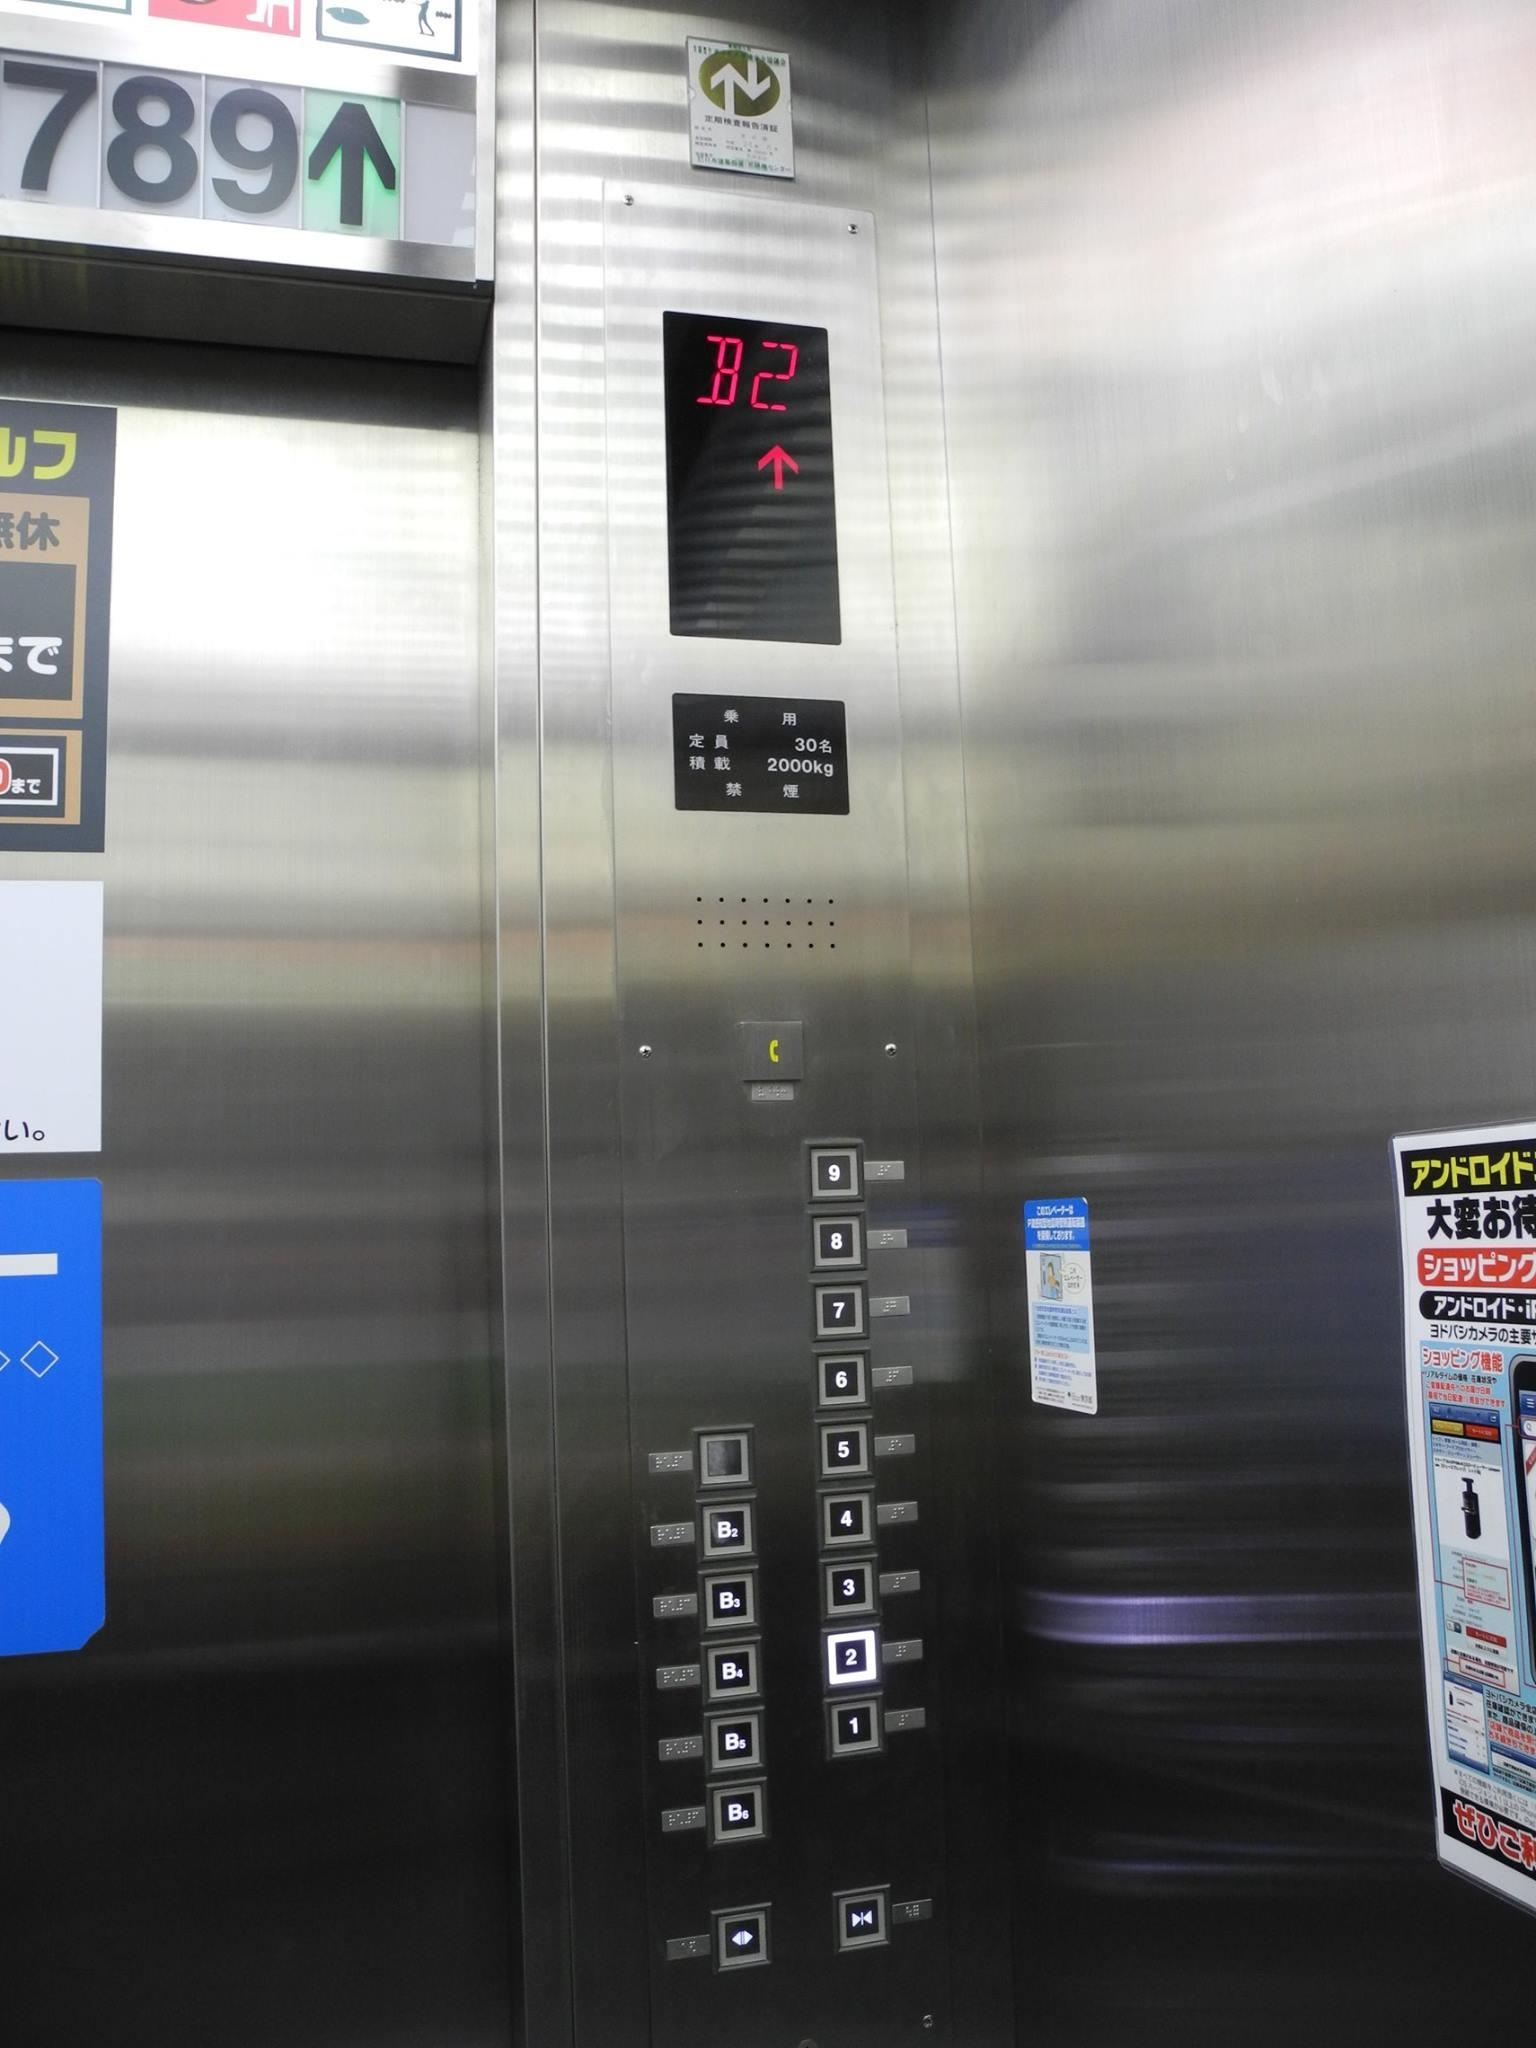1: (821, 1692, 887, 1761)
2: (820, 1622, 883, 1693)
3: (818, 1555, 881, 1621)
4: (815, 1485, 878, 1553)
5: (813, 1416, 874, 1484)
6: (812, 1348, 871, 1411)
7: (808, 1279, 871, 1343)
8: (807, 1208, 870, 1274)
9: (800, 1138, 866, 1205)
B2: (695, 1496, 758, 1563)
B3: (697, 1566, 762, 1632)
B4: (699, 1637, 765, 1708)
B5: (702, 1706, 766, 1775)
B6: (707, 1772, 771, 1850)
call: (739, 1022, 800, 1082)
close: (828, 1884, 892, 1956)
empty: (692, 1424, 755, 1495)
led: (662, 314, 845, 645)
open: (710, 1901, 773, 1979)
